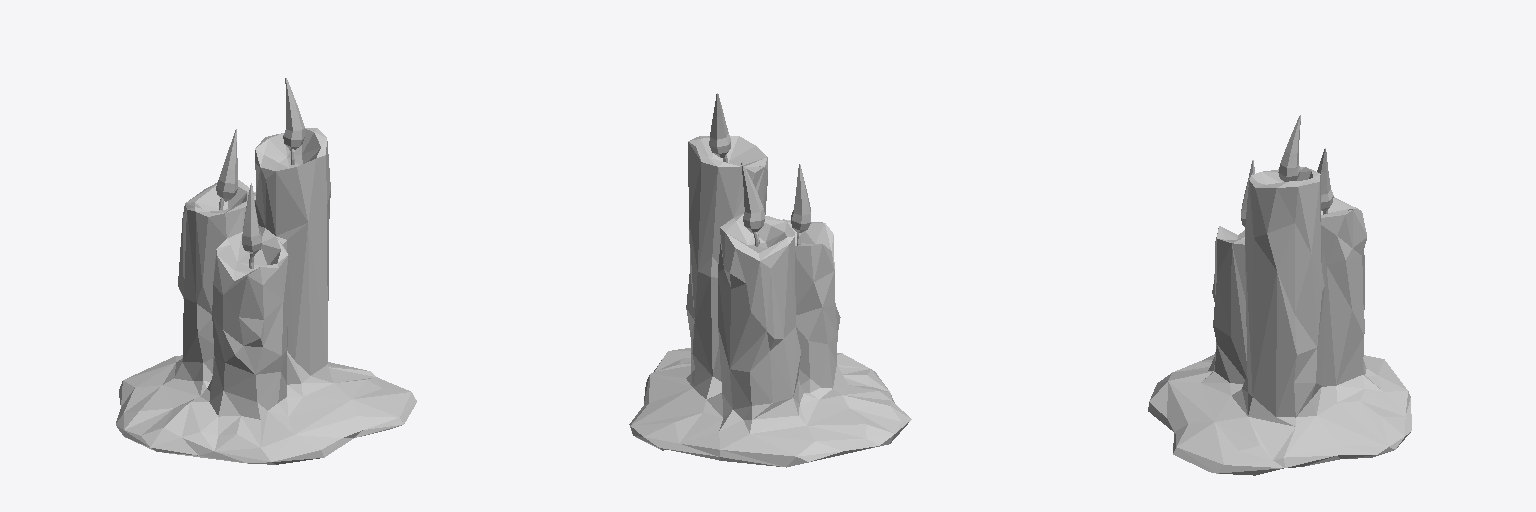
File: candle10.obj
3 renders of one model, left to right at view 1: azimuth 30°, elevation 25°; view 2: azimuth 150°, elevation 25°; view 3: azimuth 270°, elevation 25°, orthographic.
Parts seen in each view (by area): view 1: Object003, candleflame003, candleflame002, candleflame001; view 2: Object003, candleflame002, candleflame003, candleflame001; view 3: Object003, candleflame003, candleflame002.
Part boxes in pixels (x1,y1,x2,y2): Object003: (116, 128, 416, 464); candleflame003: (283, 78, 304, 149); candleflame002: (216, 129, 238, 201); candleflame001: (242, 183, 261, 253); Object003: (629, 136, 911, 467); candleflame002: (741, 162, 764, 232); candleflame003: (709, 93, 730, 157); candleflame001: (791, 164, 810, 232); Object003: (1148, 167, 1411, 475); candleflame003: (1278, 115, 1300, 181); candleflame002: (1317, 148, 1333, 211).
Bounding box in the file's own units: 1.05 × 1.24 × 0.9231.